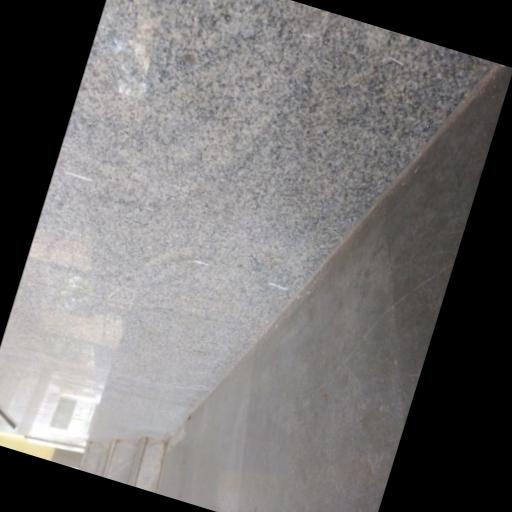stairs: (81, 438, 166, 492)
